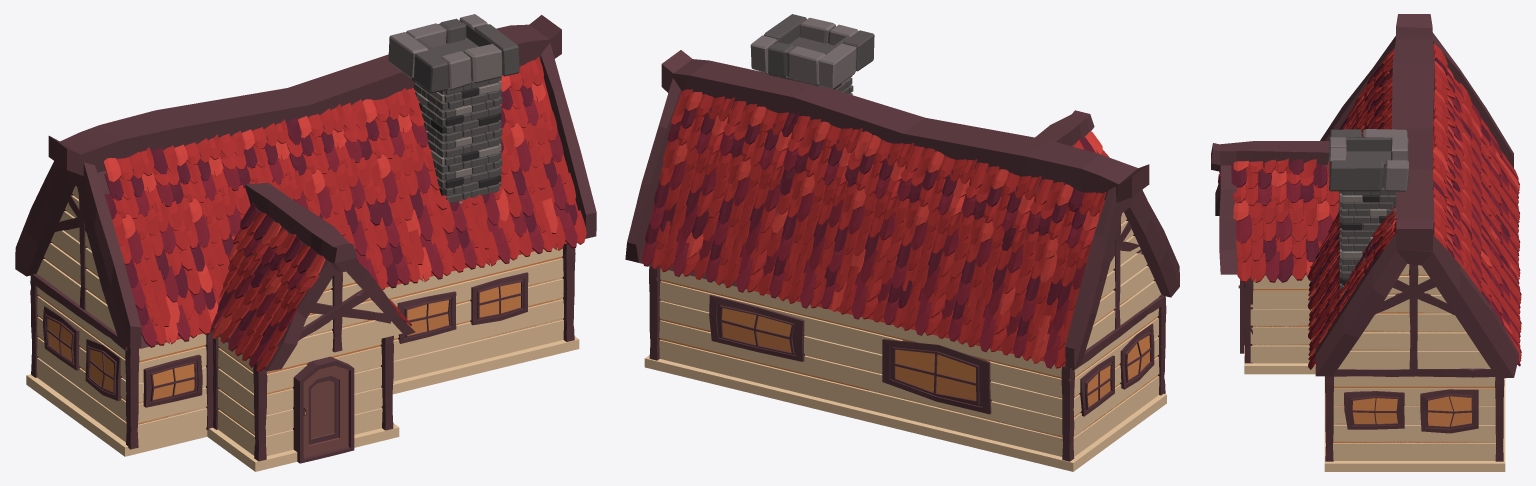
Rendered from casa-madeira1.fbx.
3 views of the same model, side by side, from view 1: azimuth 30°, elevation 25°; view 2: azimuth 150°, elevation 25°; view 3: azimuth 270°, elevation 25° (orthographic). The views are drawn at different scales.
Visible parts, largest first — view 1: Cube.236, Cube.019; view 2: Cube.236; view 3: Cube.236.
Boxes of the visible parts, x1,y1,x2,y2 form: Cube.236: [15, 14, 596, 471]; Cube.019: [303, 365, 348, 457]; Cube.236: [625, 14, 1179, 471]; Cube.236: [1211, 14, 1521, 471].
Bounding box in the file's own units: 1099 × 672 × 673.
